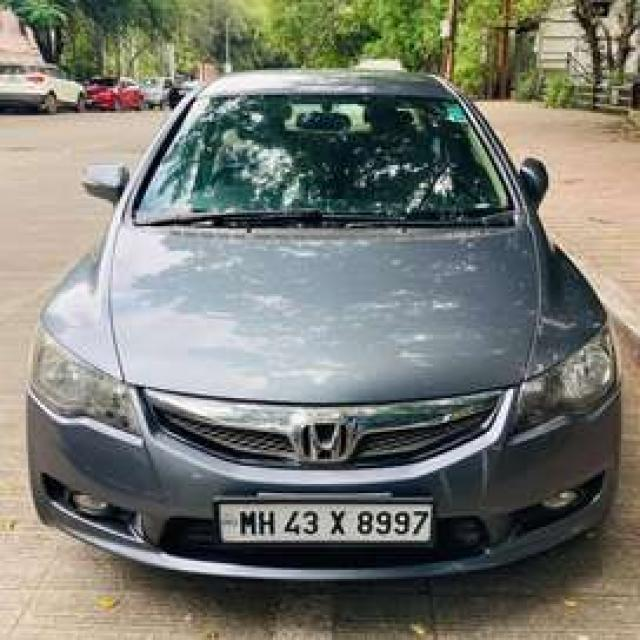Plate: (220, 501, 429, 539)
